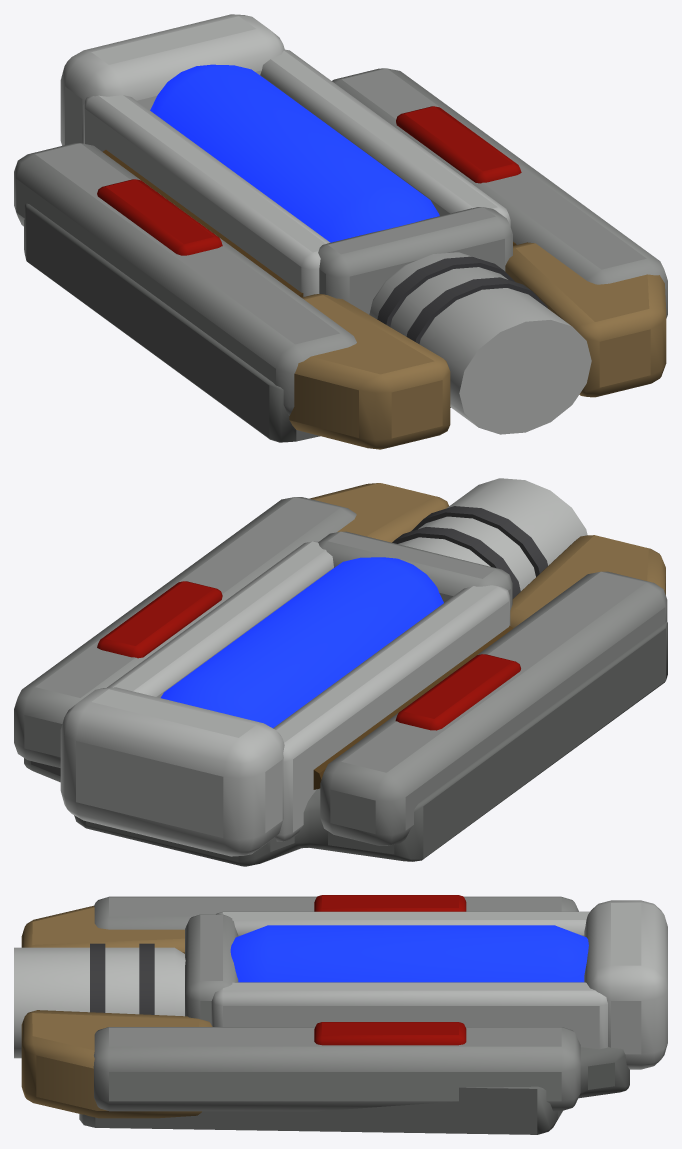
The model's file is store_generator_18.glb.
3 views of the same model, one above another, from view 1: azimuth 30°, elevation 25°; view 2: azimuth 150°, elevation 25°; view 3: azimuth 270°, elevation 25° (orthographic). The views are drawn at different scales.
Visible parts, largest first — view 1: steel_light, steel, gold, core, base, red_paint, steel_dark, gold_dark; view 2: steel_light, steel, core, base, gold, red_paint, steel_dark, gold_dark; view 3: steel, steel_light, core, base, gold, red_paint, steel_dark.
Part boxes in pixels (x1=…): steel_light: x1=60, y1=14, x2=591, y2=434; steel: x1=14, y1=68, x2=667, y2=415; gold: x1=289, y1=242, x2=666, y2=449; core: x1=150, y1=64, x2=439, y2=242; base: x1=24, y1=203, x2=450, y2=442; red_paint: x1=97, y1=106, x2=521, y2=255; steel_dark: x1=377, y1=256, x2=547, y2=344; gold_dark: x1=103, y1=150, x2=516, y2=297; steel_light: x1=60, y1=478, x2=587, y2=856; steel: x1=14, y1=497, x2=667, y2=845; core: x1=161, y1=557, x2=443, y2=728; base: x1=24, y1=621, x2=667, y2=866; gold: x1=309, y1=483, x2=665, y2=628; red_paint: x1=97, y1=581, x2=520, y2=730; steel_dark: x1=392, y1=506, x2=547, y2=598; gold_dark: x1=313, y1=625, x2=513, y2=789; steel: x1=93, y1=896, x2=580, y2=1111; steel_light: x1=14, y1=900, x2=667, y2=1069; core: x1=230, y1=925, x2=588, y2=982; base: x1=79, y1=1047, x2=629, y2=1134; gold: x1=21, y1=905, x2=212, y2=1118; red_paint: x1=314, y1=895, x2=466, y2=1045; steel_dark: x1=90, y1=943, x2=154, y2=1014.
Size of the model in its own units: 20.96 by 7.17 by 34.4.
